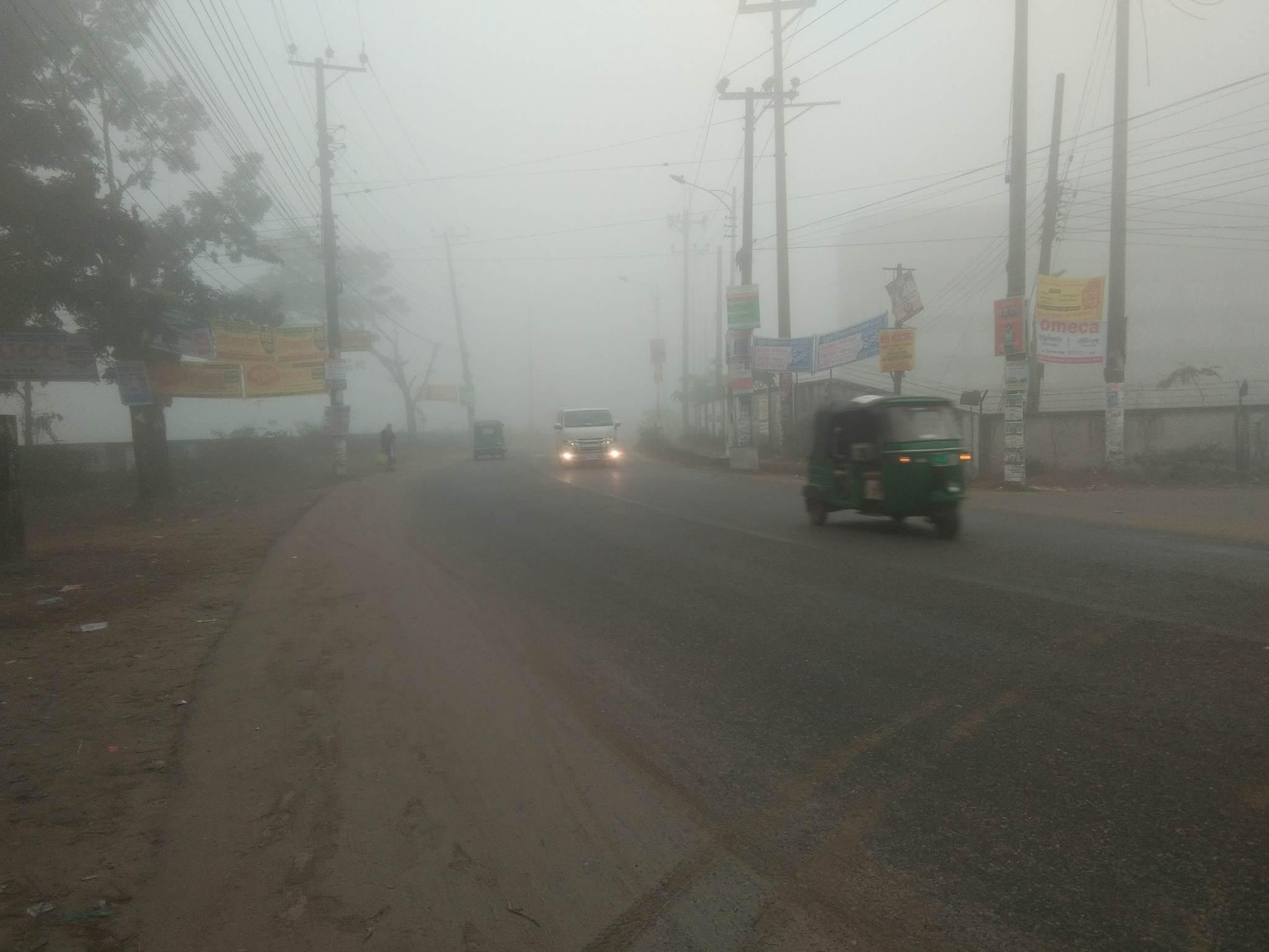Car: (546, 399, 635, 480)
